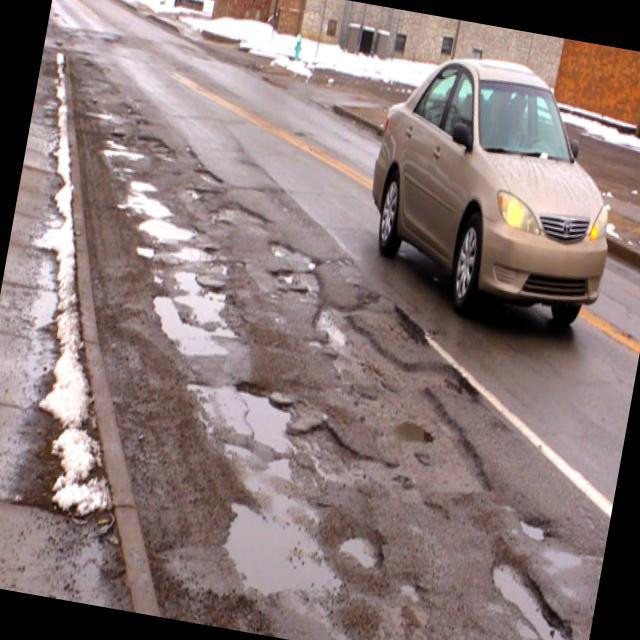Pothole: (216, 482, 350, 622), (469, 546, 596, 640), (231, 383, 312, 459), (148, 294, 224, 362), (203, 186, 273, 248), (336, 521, 388, 581), (384, 404, 442, 455), (309, 304, 355, 362), (138, 208, 198, 248), (514, 502, 556, 548), (104, 133, 148, 165), (173, 264, 207, 300), (398, 565, 424, 606), (270, 229, 296, 264), (128, 172, 158, 200), (183, 178, 205, 206), (274, 266, 296, 289)
